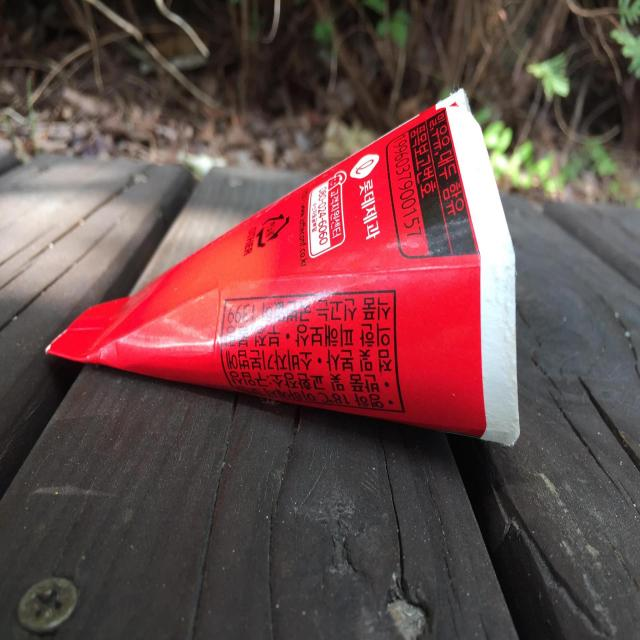paperpack: (46, 89, 520, 445)
